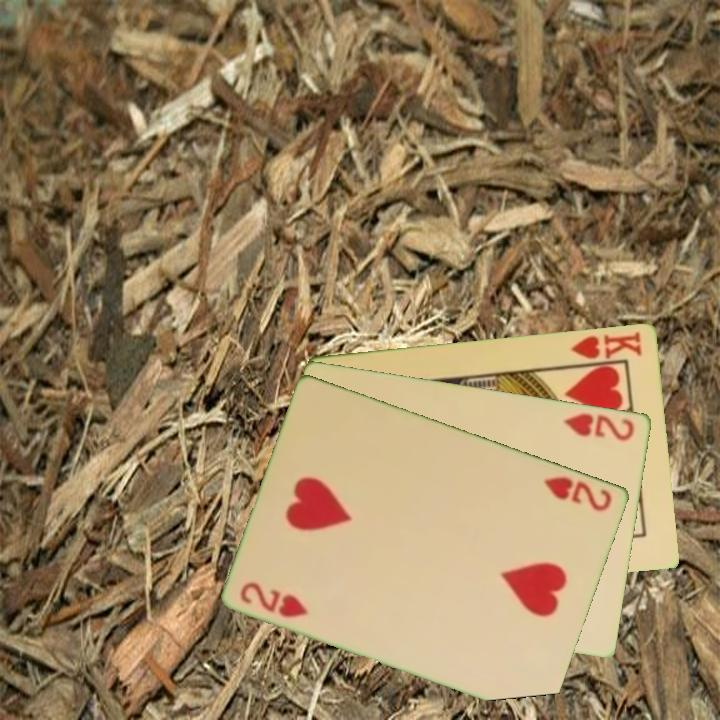2h: (237, 578, 312, 621), (541, 472, 615, 514), (560, 409, 638, 444)
Kh: (565, 327, 645, 368)
